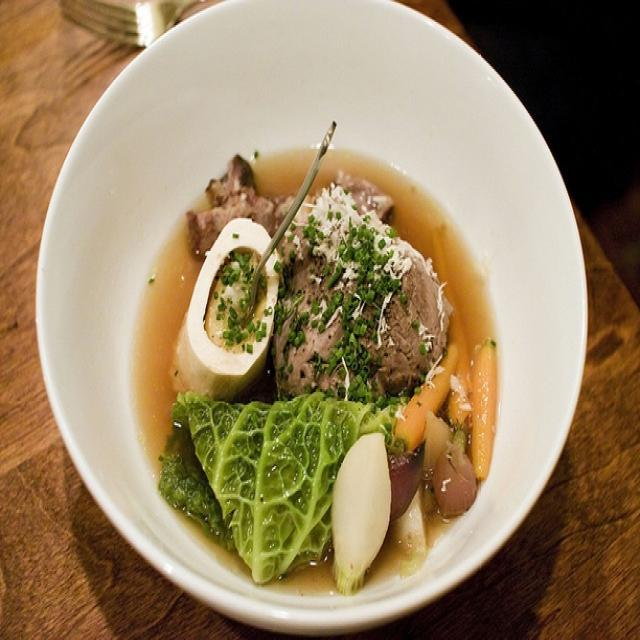汤锅炖物: (49, 23, 573, 615)
